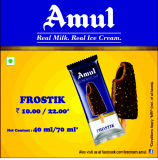Amul: (42, 4, 117, 29)
